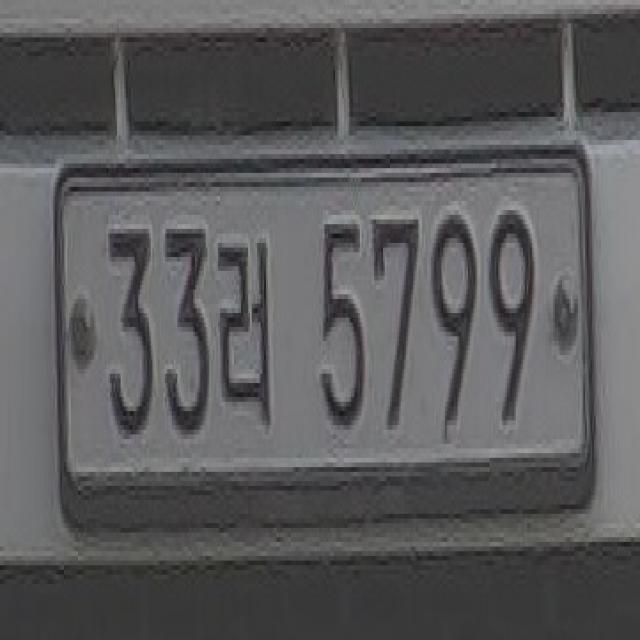3: (160, 220, 209, 439), (105, 225, 154, 434)
5: (316, 210, 367, 434)
7: (369, 210, 420, 444)
9: (486, 196, 535, 430), (427, 206, 477, 430)
leo: (211, 229, 277, 425)
license_plate: (60, 164, 587, 476)
